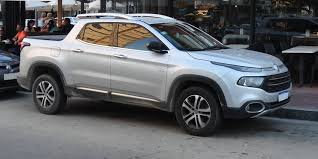car: (18, 11, 291, 138), (1, 47, 25, 93)
